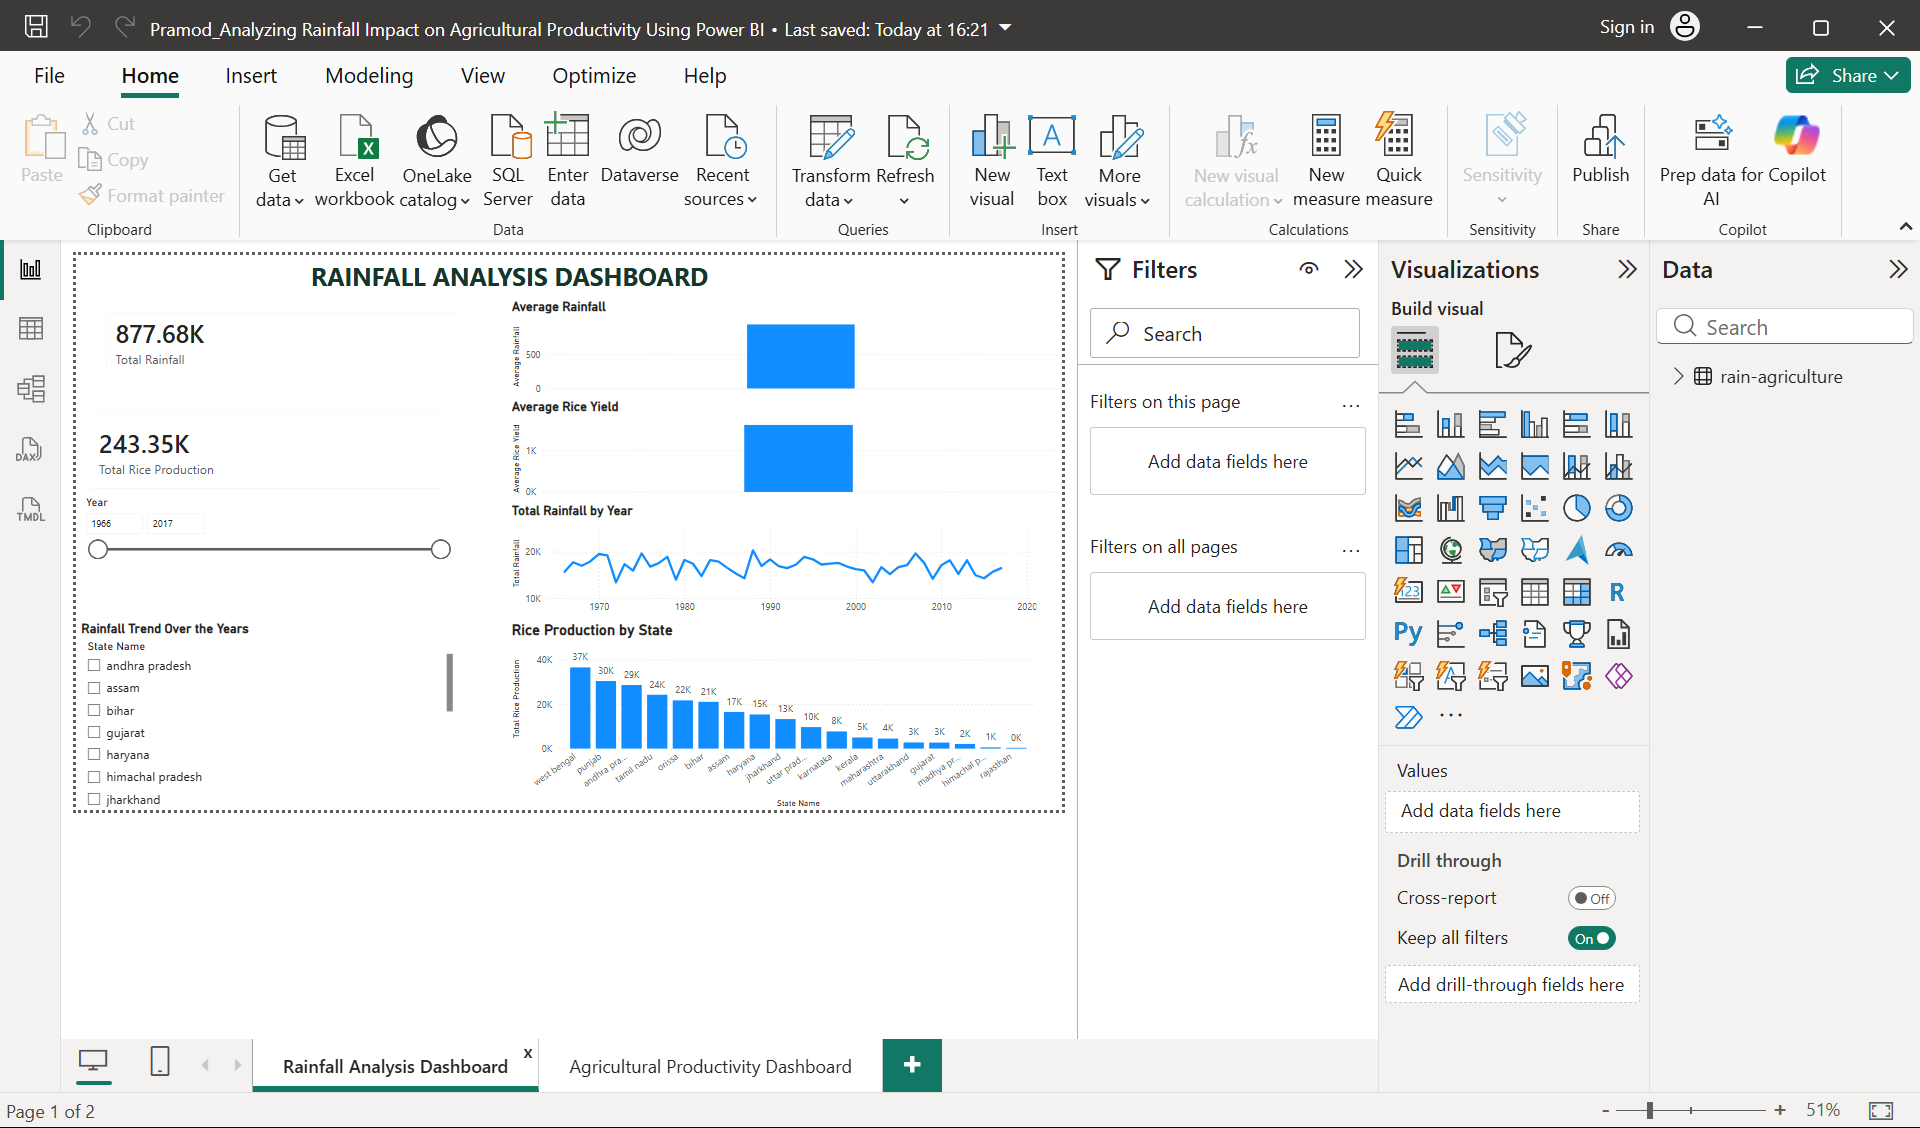

This screenshot's page, from the dashboard's own definition file:
{"tool":"powerbi","page":{"name":"Rainfall Analysis Dashboard","canvas":[1280,720],"ordinal":0},"visuals":[{"type":"cardVisual","fields":{"Data":["rain-agriculture.Total Rainfall"]},"box":[21.4,56.5,492.7,109],"z":0},{"type":"clusteredColumnChart","fields":{"Y":["rain-agriculture.Average Rainfall"]},"box":[560.8,56.5,720.5,130.5],"z":1000},{"type":"cardVisual","fields":{"Data":["rain-agriculture.Total Rice Production"]},"box":[0,186.9,494.6,134.4],"z":2000},{"type":"clusteredColumnChart","fields":{"Y":["rain-agriculture.Average Rice Yield"]},"box":[560.8,186.9,720.5,134.4],"z":3000},{"type":"clusteredColumnChart","title":"Rice Production by State","fields":{"Category":["rain-agriculture.State Name"],"Y":["rain-agriculture.Total Rice Production"]},"box":[560.8,475.1,691.3,247.3],"z":4000},{"type":"lineChart","fields":{"Category":["rain-agriculture.Year"],"Y":["rain-agriculture.Total Rainfall"]},"box":[560.8,321.3,691.3,153.8],"z":5000},{"type":"slicer","fields":{"Values":["rain-agriculture.Year"]},"box":[0,307.7,494.6,167.5],"z":6000},{"type":"slicer","title":"Rainfall Trend Over the Years","fields":{"Values":["rain-agriculture.State Name"]},"box":[1.9,475.1,492.7,245.4],"z":7000},{"type":"textbox","box":[299.9,0,757.5,56.5],"z":11000}]}

Visuals, with their boxes on the page's 1280x720 design canvas (x1, y1, x2, y2). These are canvas units, not pixel positions in the 1920x1128 screenshot, which may show the page scaled, cropped or inside an application window:
cardVisual - rain-agriculture.Total Rainfall: <box>21,56,514,166</box>
clusteredColumnChart - rain-agriculture.Average Rainfall: <box>561,56,1281,187</box>
cardVisual - rain-agriculture.Total Rice Production: <box>0,187,495,321</box>
clusteredColumnChart - rain-agriculture.Average Rice Yield: <box>561,187,1281,321</box>
"Rice Production by State" clusteredColumnChart: <box>561,475,1252,722</box>
lineChart - rain-agriculture.Year x rain-agriculture.Total Rainfall: <box>561,321,1252,475</box>
slicer - rain-agriculture.Year: <box>0,308,495,475</box>
"Rainfall Trend Over the Years" slicer: <box>2,475,495,720</box>
textbox: <box>300,0,1057,56</box>
